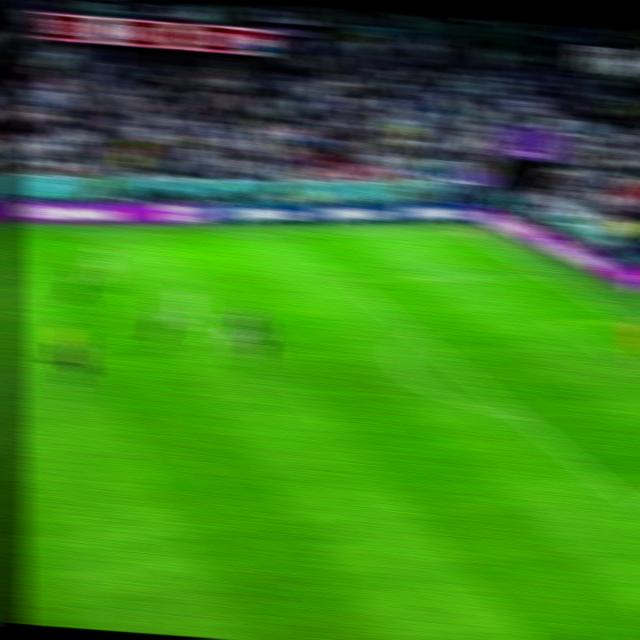bigarea_top_inner: (332, 269, 360, 289)
bigarea_top_outter: (532, 267, 558, 284)
bottom_arc_area_intersection: (510, 407, 537, 428)
corner: (450, 225, 482, 239)
smallarea_top_inner: (543, 313, 570, 331)
smallarea_top_outter: (613, 310, 640, 328)
top_arc_area_intersection: (402, 322, 430, 345)
